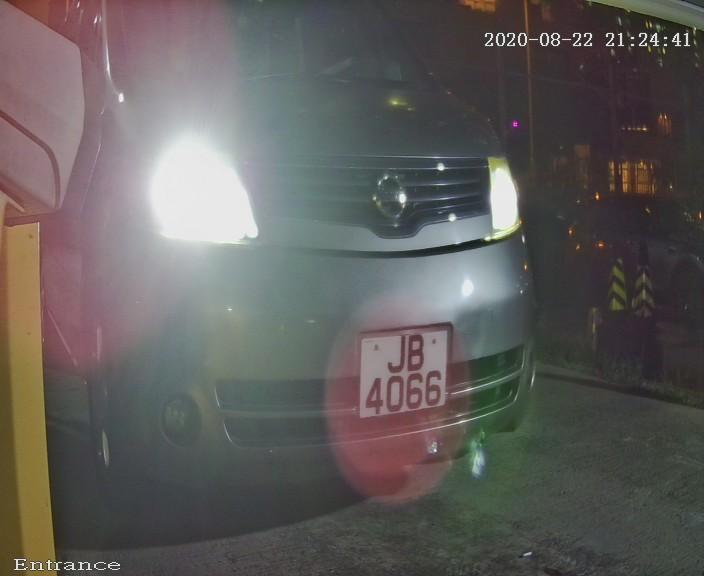Car: (32, 6, 598, 564)
License Plate: (324, 308, 486, 438)
